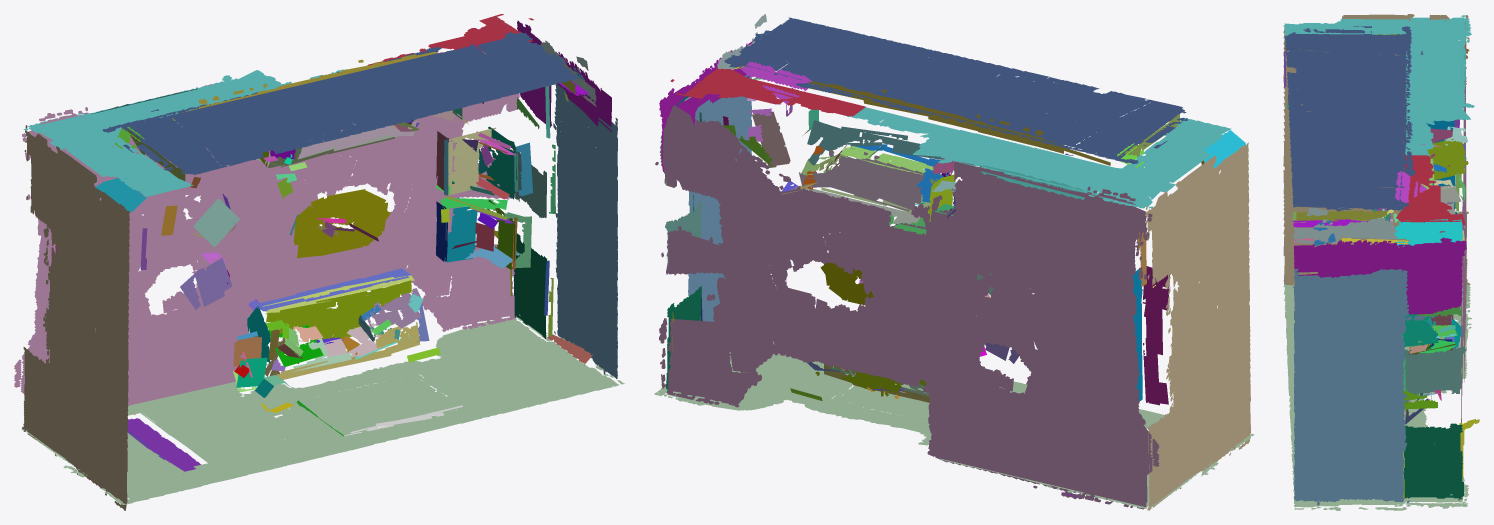
Rendered from room0_ps.glb.
The picture shows the model from 3 angles, left to right: view 1: azimuth 30°, elevation 25°; view 2: azimuth 150°, elevation 25°; view 3: azimuth 270°, elevation 25°; orthographic projection. The views are drawn at different scales.
Parts seen in each view (by area): view 1: world; view 2: world; view 3: world.
Boxes of the visible parts, x1,y1,x2,y2 form: world: (14, 14, 624, 510); world: (654, 14, 1254, 510); world: (1283, 14, 1479, 510).
Size of the model in its own units: 7.81 by 4.78 by 2.88.
